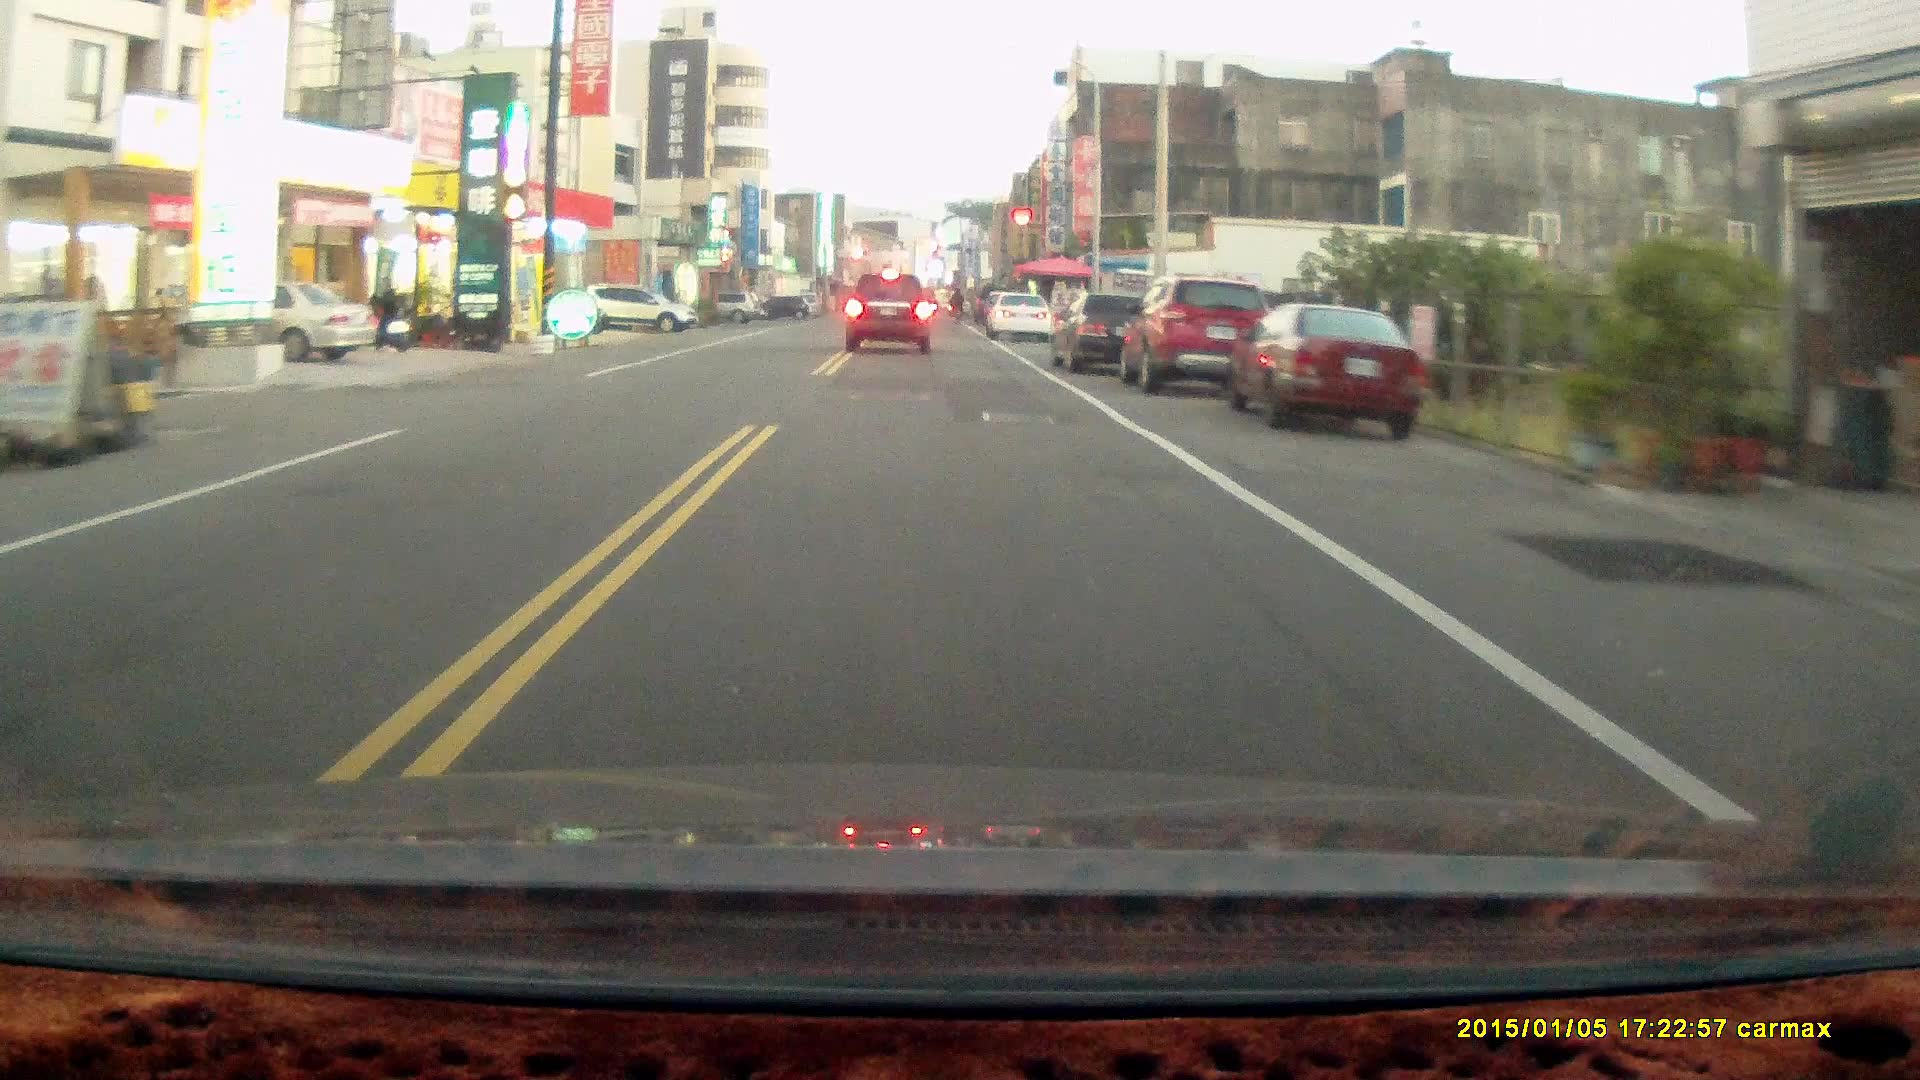vehicle: (1224, 301, 1433, 435), (1122, 276, 1279, 393), (171, 280, 378, 367), (1051, 293, 1172, 375), (844, 272, 936, 355), (584, 282, 695, 330), (986, 291, 1055, 345)
